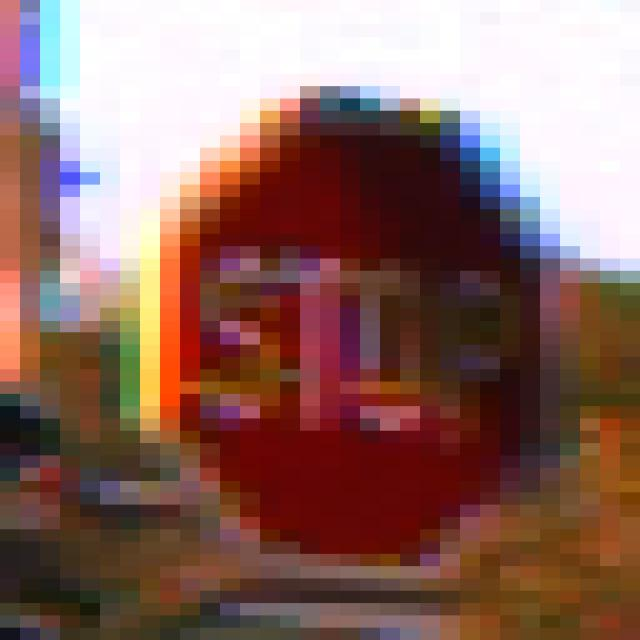STOP: (121, 63, 541, 580)
